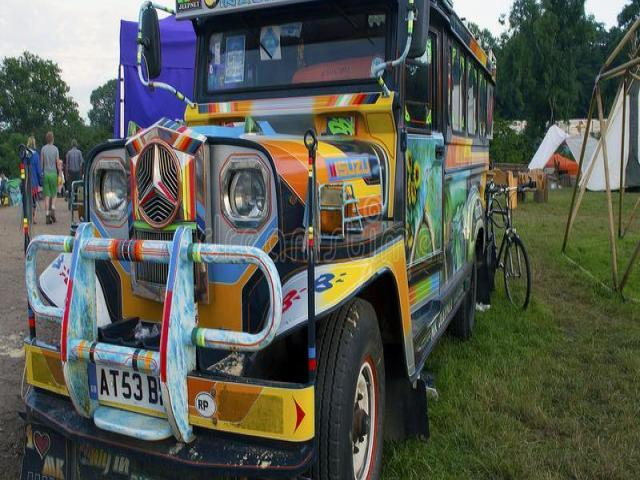jeepney: (3, 0, 499, 480)
